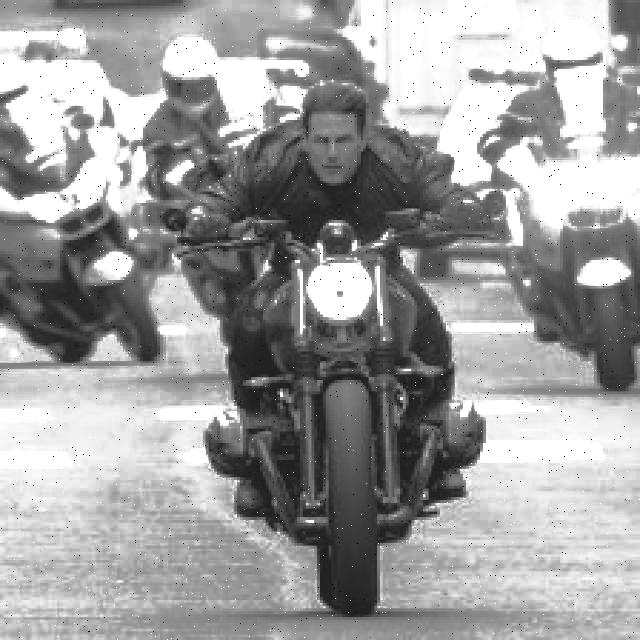Bike: (241, 210, 449, 614), (13, 99, 175, 383), (513, 127, 638, 392)
